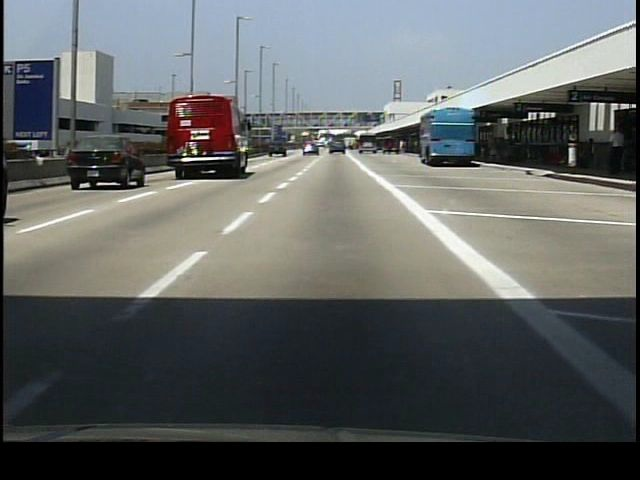person: (608, 131, 627, 176)
